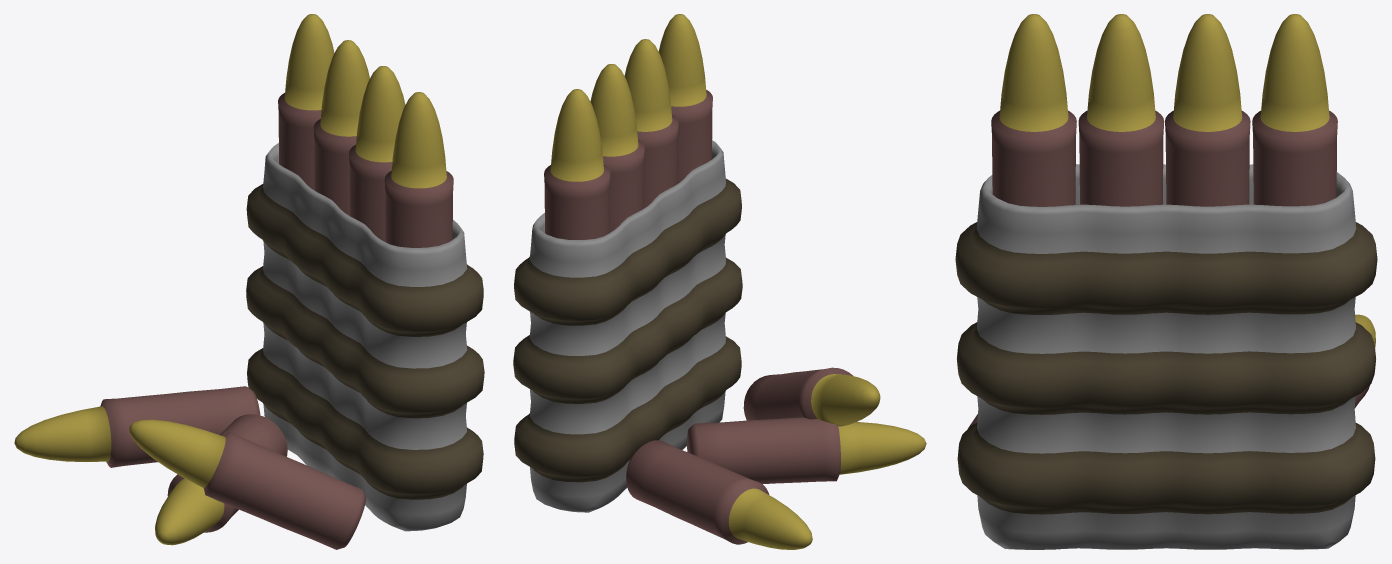
Rendered from ShotGunAmmo.fbx.
The picture shows the model from 3 angles, left to right: view 1: azimuth 30°, elevation 25°; view 2: azimuth 150°, elevation 25°; view 3: azimuth 270°, elevation 25°; orthographic projection. The views are drawn at different scales.
Parts seen in each view (by area): view 1: ShutGunBox, NormalShot.006, NormalShot.007, NormalShot.004, NormalShot.003, NormalShot.001, NormalShot.002, NormalShot.005; view 2: ShutGunBox, NormalShot.005, NormalShot.007, NormalShot.001, NormalShot.006, NormalShot.004, NormalShot.002, NormalShot.003; view 3: ShutGunBox, NormalShot.002, NormalShot.003, NormalShot.001, NormalShot.004.
Part boxes in pixels (x1,y1,x2,y2): ShutGunBox: (246,143,484,531); NormalShot.006: (129,419,365,549); NormalShot.007: (14,386,260,467); NormalShot.004: (384,92,453,247); NormalShot.003: (349,66,405,241); NormalShot.001: (278,14,334,190); NormalShot.002: (313,40,369,215); NormalShot.005: (155,414,287,545); ShutGunBox: (513,140,742,512); NormalShot.005: (687,417,926,484); NormalShot.007: (626,440,812,549); NormalShot.001: (544,89,610,239); NormalShot.006: (743,367,880,426); NormalShot.004: (658,14,712,183); NormalShot.002: (590,64,644,232); NormalShot.003: (624,39,678,208); ShutGunBox: (955,164,1377,549); NormalShot.002: (1165,14,1250,206); NormalShot.003: (1078,14,1164,206); NormalShot.001: (1252,14,1337,206); NormalShot.004: (991,14,1076,206).
Size of the model in its own units: 75.55 by 94.45 by 69.52.
